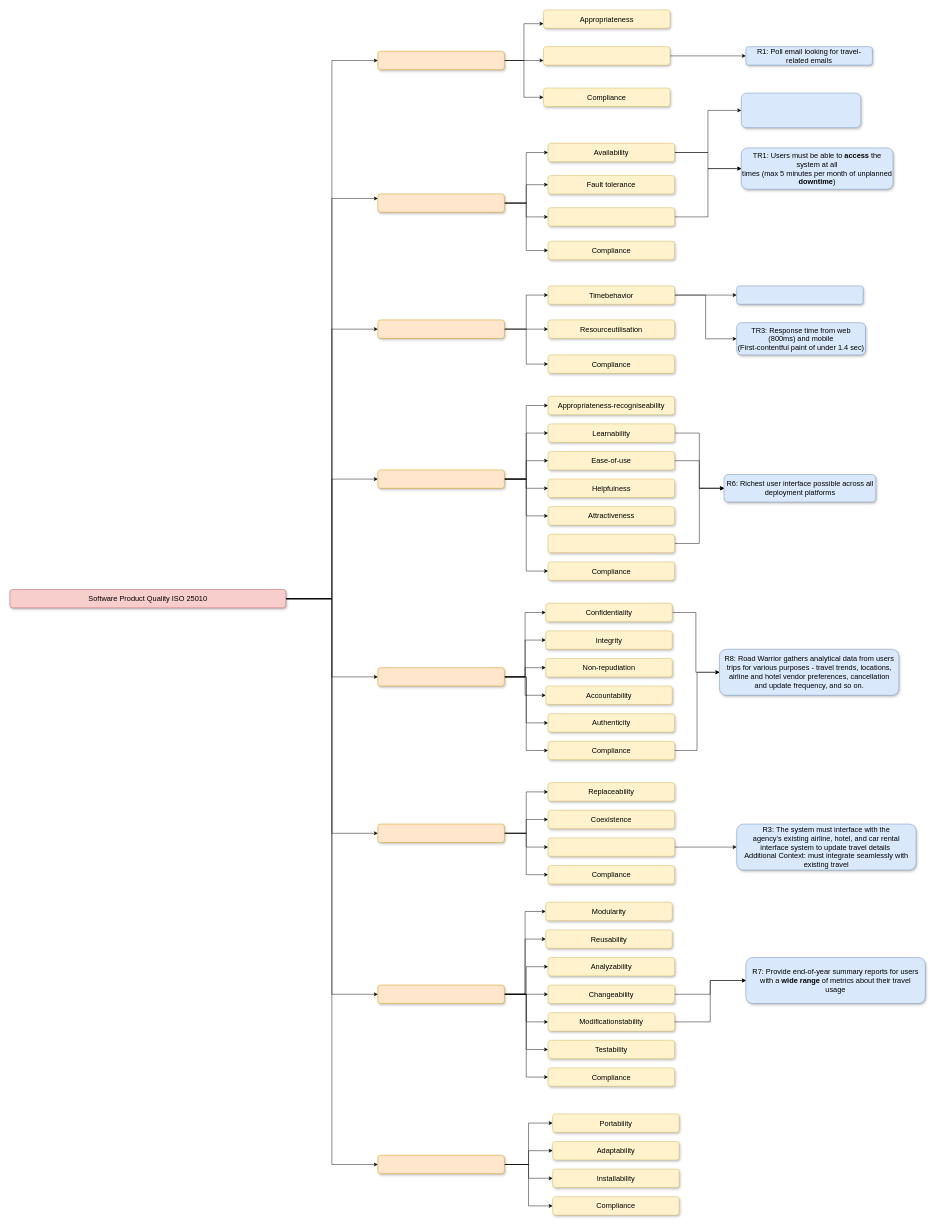
Image size: 936x1226. Some labels were removed from this diagram. The shapes that lost their labels are listed below. From the top down, each one's centre as x and y in pixels, then its label:
At [441,61]: "Functional Suitability".
At [607,56]: "Accuracy".
At [801,111]: "Users: 2 million active users/week".
At [441,204]: "Reliability".
At [611,217]: "Recoverability".
At [800,296]: "R3: Updates must be in the app within 5 minutes of an update".
At [441,330]: "Performance efficiency".
At [441,480]: "Operability (Useability)".
At [611,544]: "Technical-accessibility".
At [441,677]: "Security".
At [441,834]: "Compatibility".
At [611,848]: "Interoperability".
At [441,995]: "Maintainability".
At [441,1165]: "Transferability".
